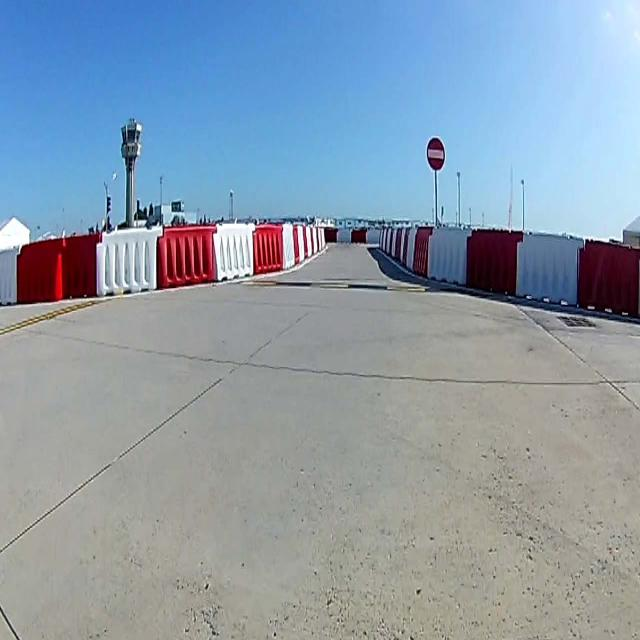girisyok: (427, 136, 445, 172)
